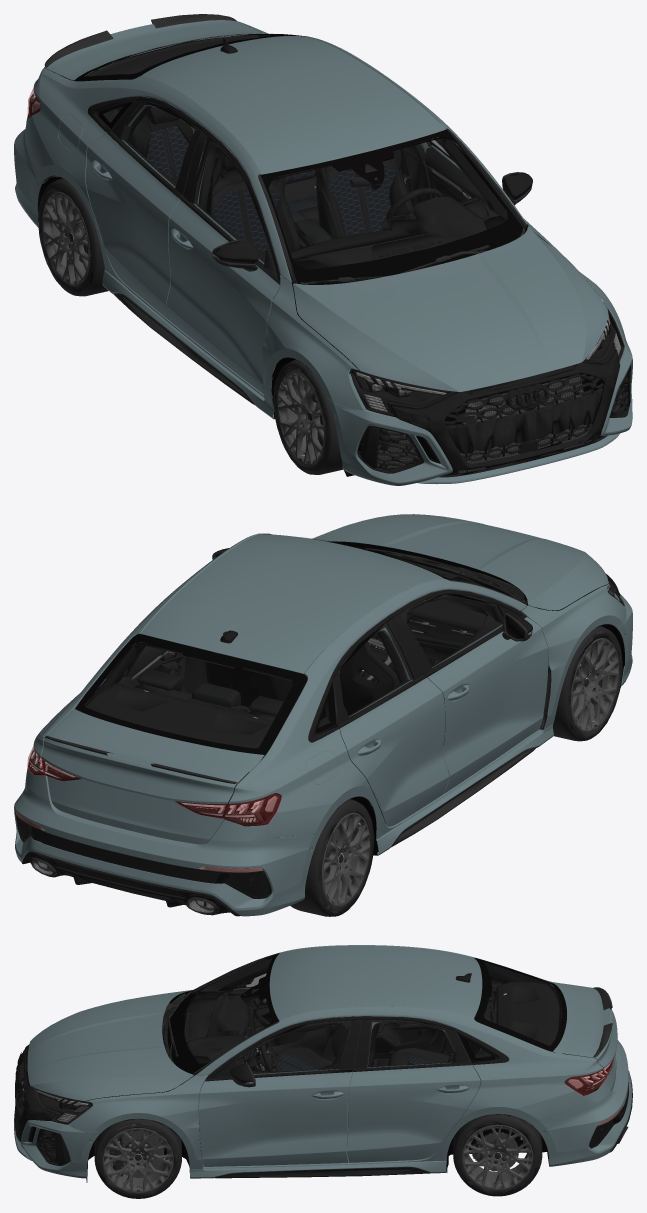
3 views of the same model, one above another, from view 1: azimuth 30°, elevation 25°; view 2: azimuth 150°, elevation 25°; view 3: azimuth 270°, elevation 25° (orthographic). The views are drawn at different scales.
Visible parts, largest first — view 1: A:Paint_Geo_lodA_Paint_Geo_lodA_Audi_RS3SedanRewardRecycled_, A:WindowInside_Geo_lodA_WindowInside_Geo_lodA_Audi_RS3SedanR, A:Coloured_Geo_lodA_Coloured_Geo_lodA_Audi_RS3SedanRewardRec, A:Interior_Geo_lodA_Interior_Geo_lodA_Audi_RS3SedanRewardRec, polySurface203_A:Audi_RS3SedanRewardRecycled_2023_Wheel1A_3D, A:InteriorTilling_Geo_lodA_InteriorTilling_Geo_lodA_Audi_RS3, A:GrilleNoAlpha1_Geo_lodA_GrilleNoAlpha1_Geo_lodA_Audi_RS3Se, A:Light_Geo_lodA_Light_Geo_lodA_Audi_RS3SedanRewardRecycled_, A:Base_Geo_lodA_Base_Geo_lodA_Audi_RS3SedanRewardRecycled_20, A:GrilleNoAlpha2_Geo_lodA_GrilleNoAlpha2_Geo_lodA_Audi_RS3Se; view 2: A:Paint_Geo_lodA_Paint_Geo_lodA_Audi_RS3SedanRewardRecycled_, A:WindowInside_Geo_lodA_WindowInside_Geo_lodA_Audi_RS3SedanR, A:Coloured_Geo_lodA_Coloured_Geo_lodA_Audi_RS3SedanRewardRec, A:Interior_Geo_lodA_Interior_Geo_lodA_Audi_RS3SedanRewardRec, polySurface203_A:Audi_RS3SedanRewardRecycled_2023_Wheel1A_3D, A:Carbon1M_Geo_lodA_Carbon1M_Geo_lodA_Audi_RS3SedanRewardRec, A:Light_Geo_lodA_Light_Geo_lodA_Audi_RS3SedanRewardRecycled_, A:GrilleNoAlpha1_Geo_lodA_GrilleNoAlpha1_Geo_lodA_Audi_RS3Se, A:Base_Geo_lodA_Base_Geo_lodA_Audi_RS3SedanRewardRecycled_20, A:Window_Geo_lodA_Window_Geo_lodA_Audi_RS3SedanRewardRecycle; view 3: A:Paint_Geo_lodA_Paint_Geo_lodA_Audi_RS3SedanRewardRecycled_, A:WindowInside_Geo_lodA_WindowInside_Geo_lodA_Audi_RS3SedanR, A:Coloured_Geo_lodA_Coloured_Geo_lodA_Audi_RS3SedanRewardRec, A:Interior_Geo_lodA_Interior_Geo_lodA_Audi_RS3SedanRewardRec, polySurface203_A:Audi_RS3SedanRewardRecycled_2023_Wheel1A_3D, A:Light_Geo_lodA_Light_Geo_lodA_Audi_RS3SedanRewardRecycled_, A:Base_Geo_lodA_Base_Geo_lodA_Audi_RS3SedanRewardRecycled_20, A:Window_Geo_lodA_Window_Geo_lodA_Audi_RS3SedanRewardRecycle, A:InteriorTilling_Geo_lodA_InteriorTilling_Geo_lodA_Audi_RS3, A:GrilleNoAlpha3_Geo_lodA_GrilleNoAlpha3_Geo_lodA_Audi_RS3Se, A:GrilleNoAlpha1_Geo_lodA_GrilleNoAlpha1_Geo_lodA_Audi_RS3Se, A:GrilleNoAlpha5_Geo_lodA_GrilleNoAlpha5_Geo_lodA_Audi_RS3Se (+1 smaller).
Part boxes in pixels (x1,y1,x2,y2): A:Paint_Geo_lodA_Paint_Geo_lodA_Audi_RS3SedanRewardRecycled_: (14,20,632,485); A:WindowInside_Geo_lodA_WindowInside_Geo_lodA_Audi_RS3SedanR: (85,34,624,416); A:Coloured_Geo_lodA_Coloured_Geo_lodA_Audi_RS3SedanRewardRec: (38,14,630,477); A:Interior_Geo_lodA_Interior_Geo_lodA_Audi_RS3SedanRewardRec: (86,35,507,344); polySurface203_A:Audi_RS3SedanRewardRecycled_2023_Wheel1A_3D: (38,178,342,474); A:InteriorTilling_Geo_lodA_InteriorTilling_Geo_lodA_Audi_RS3: (146,125,396,301); A:GrilleNoAlpha1_Geo_lodA_GrilleNoAlpha1_Geo_lodA_Audi_RS3Se: (446,388,602,453); A:Light_Geo_lodA_Light_Geo_lodA_Audi_RS3SedanRewardRecycled_: (28,92,624,416); A:Base_Geo_lodA_Base_Geo_lodA_Audi_RS3SedanRewardRecycled_20: (28,34,626,477); A:GrilleNoAlpha2_Geo_lodA_GrilleNoAlpha2_Geo_lodA_Audi_RS3Se: (377,372,622,473); A:Paint_Geo_lodA_Paint_Geo_lodA_Audi_RS3SedanRewardRecycled_: (14,514,632,916); A:WindowInside_Geo_lodA_WindowInside_Geo_lodA_Audi_RS3SedanR: (85,538,624,747); A:Coloured_Geo_lodA_Coloured_Geo_lodA_Audi_RS3SedanRewardRec: (14,533,619,916); A:Interior_Geo_lodA_Interior_Geo_lodA_Audi_RS3SedanRewardRec: (43,576,502,816); polySurface203_A:Audi_RS3SedanRewardRecycled_2023_Wheel1A_3D: (290,626,622,916); A:Carbon1M_Geo_lodA_Carbon1M_Geo_lodA_Audi_RS3SedanRewardRec: (205,625,470,739); A:Light_Geo_lodA_Light_Geo_lodA_Audi_RS3SedanRewardRecycled_: (15,580,624,872); A:GrilleNoAlpha1_Geo_lodA_GrilleNoAlpha1_Geo_lodA_Audi_RS3Se: (18,819,269,896); A:Base_Geo_lodA_Base_Geo_lodA_Audi_RS3SedanRewardRecycled_20: (25,541,624,906); A:Window_Geo_lodA_Window_Geo_lodA_Audi_RS3SedanRewardRecycle: (15,746,281,871); A:Paint_Geo_lodA_Paint_Geo_lodA_Audi_RS3SedanRewardRecycled_: (14,945,631,1178); A:WindowInside_Geo_lodA_WindowInside_Geo_lodA_Audi_RS3SedanR: (33,958,561,1124); A:Coloured_Geo_lodA_Coloured_Geo_lodA_Audi_RS3SedanRewardRec: (14,953,632,1178); A:Interior_Geo_lodA_Interior_Geo_lodA_Audi_RS3SedanRewardRec: (176,958,603,1094); polySurface203_A:Audi_RS3SedanRewardRecycled_2023_Wheel1A_3D: (94,1114,542,1198); A:Light_Geo_lodA_Light_Geo_lodA_Audi_RS3SedanRewardRecycled_: (33,1059,621,1125); A:Base_Geo_lodA_Base_Geo_lodA_Audi_RS3SedanRewardRecycled_20: (23,958,623,1182); A:Window_Geo_lodA_Window_Geo_lodA_Audi_RS3SedanRewardRecycle: (565,1058,621,1125); A:InteriorTilling_Geo_lodA_InteriorTilling_Geo_lodA_Audi_RS3: (273,1048,477,1071); A:GrilleNoAlpha3_Geo_lodA_GrilleNoAlpha3_Geo_lodA_Audi_RS3Se: (190,986,393,1063); A:GrilleNoAlpha1_Geo_lodA_GrilleNoAlpha1_Geo_lodA_Audi_RS3Se: (15,1064,628,1147); A:GrilleNoAlpha5_Geo_lodA_GrilleNoAlpha5_Geo_lodA_Audi_RS3Se: (184,989,509,1072).
Bounding box in the file's own units: 0.0199 × 0.0141 × 0.0454.
19 materials, 15 textured.
